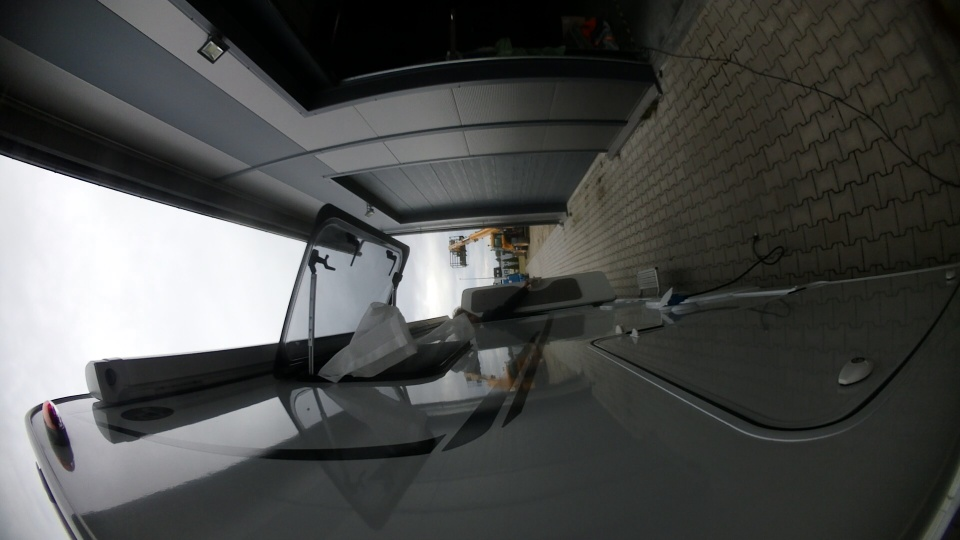door_back: (457, 268, 624, 330)
step_back: (628, 264, 666, 296)
window_back: (266, 202, 470, 386)
